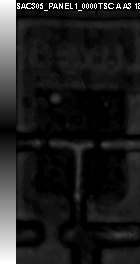led: (36, 88, 127, 196)
